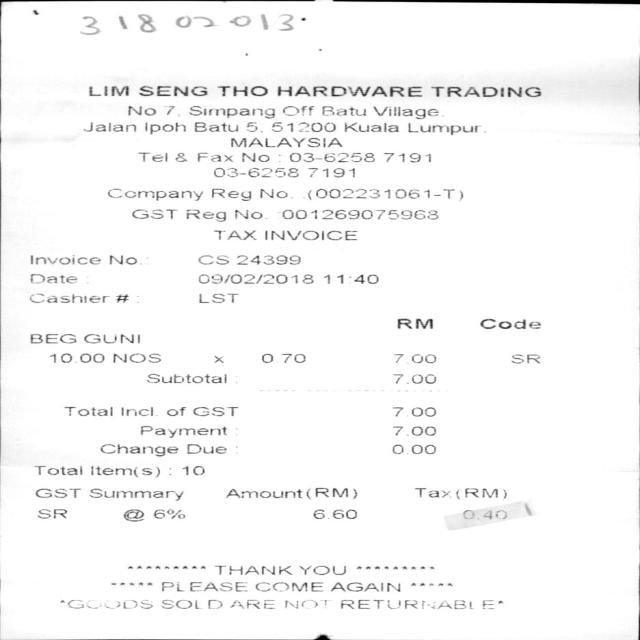text: (307, 188, 462, 200), (276, 85, 421, 96), (226, 486, 356, 498), (282, 210, 437, 220), (339, 598, 471, 608), (145, 372, 225, 388), (430, 86, 540, 97), (89, 488, 182, 501), (106, 188, 202, 200), (198, 274, 312, 284), (229, 137, 341, 147), (188, 105, 274, 118), (140, 425, 226, 438), (99, 444, 177, 456), (407, 122, 477, 135), (265, 230, 356, 240), (414, 488, 505, 498), (372, 105, 438, 118), (288, 152, 373, 162), (214, 167, 298, 177), (59, 599, 151, 608), (91, 465, 159, 477), (28, 293, 108, 303), (213, 564, 291, 574), (29, 272, 76, 288), (138, 85, 206, 96), (122, 509, 184, 521), (30, 254, 99, 264), (330, 582, 399, 592), (392, 351, 435, 367), (480, 318, 540, 329), (271, 122, 334, 132), (236, 254, 299, 264), (254, 582, 322, 591), (215, 85, 267, 96), (82, 333, 139, 343), (185, 208, 225, 222), (48, 352, 103, 362), (160, 599, 221, 608), (343, 122, 397, 132), (323, 274, 377, 284), (82, 122, 135, 132), (188, 582, 246, 591), (144, 122, 185, 134), (62, 406, 111, 416), (306, 167, 354, 177), (210, 188, 250, 200), (33, 465, 81, 475), (112, 352, 159, 362), (213, 229, 255, 240), (130, 208, 176, 218), (29, 333, 75, 343), (192, 406, 238, 416), (34, 488, 80, 498), (298, 565, 344, 575), (87, 85, 128, 96), (384, 152, 429, 162), (320, 106, 364, 116), (194, 122, 238, 132), (260, 353, 304, 363), (391, 444, 435, 454), (312, 508, 356, 518), (392, 373, 435, 383), (392, 425, 435, 435), (198, 293, 238, 303), (185, 443, 225, 453), (462, 510, 506, 519), (230, 599, 274, 608), (392, 407, 435, 416), (284, 599, 325, 608), (196, 152, 232, 162), (396, 318, 432, 328), (120, 406, 152, 416), (109, 254, 140, 264), (197, 254, 228, 264), (282, 105, 312, 115), (36, 508, 66, 518), (127, 105, 155, 115), (138, 152, 166, 162), (240, 152, 268, 162), (258, 188, 286, 198), (511, 354, 539, 363), (181, 465, 203, 475), (160, 581, 182, 591), (234, 210, 261, 218), (481, 599, 502, 609), (166, 406, 185, 416), (246, 121, 261, 132), (174, 152, 186, 162), (116, 294, 127, 302), (212, 354, 223, 362), (165, 105, 173, 115), (524, 504, 529, 514), (277, 155, 279, 156)
